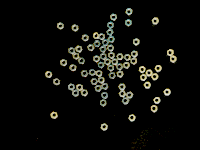nut: (167, 49, 175, 57), (152, 17, 160, 25), (146, 69, 154, 77), (139, 66, 147, 74), (133, 38, 141, 46), (131, 50, 139, 58), (116, 63, 124, 71), (111, 58, 119, 66), (110, 13, 118, 21), (107, 21, 115, 29), (101, 92, 109, 100), (81, 89, 89, 97), (76, 84, 84, 92), (72, 89, 80, 97), (68, 83, 76, 91), (50, 112, 58, 120), (60, 59, 68, 67), (53, 78, 61, 86), (126, 7, 133, 16), (170, 55, 177, 63), (164, 89, 172, 96), (155, 65, 163, 72), (151, 105, 158, 113), (151, 74, 159, 81), (144, 82, 152, 89), (140, 74, 148, 81), (126, 92, 134, 99), (122, 98, 130, 105), (119, 91, 127, 98), (119, 83, 126, 91), (124, 54, 132, 61), (123, 62, 131, 69), (117, 53, 124, 61), (108, 36, 116, 43), (107, 45, 115, 52), (100, 45, 107, 53), (102, 39, 110, 46), (99, 33, 106, 41), (93, 32, 100, 40), (94, 40, 101, 48), (100, 99, 107, 107), (101, 83, 109, 90), (91, 78, 98, 86), (98, 61, 105, 69), (87, 44, 95, 51), (82, 34, 89, 42), (72, 24, 79, 32), (57, 22, 64, 30), (81, 70, 89, 77), (78, 57, 86, 64), (76, 45, 83, 53), (73, 52, 80, 60), (69, 47, 76, 55), (70, 64, 77, 72), (45, 71, 53, 78), (154, 97, 161, 104), (129, 115, 136, 122), (131, 58, 138, 65), (117, 71, 124, 78), (107, 29, 114, 36), (109, 52, 116, 59), (108, 65, 115, 72), (109, 72, 116, 79), (100, 53, 107, 60), (101, 124, 108, 131), (98, 77, 105, 84), (95, 85, 102, 92), (96, 70, 103, 77), (89, 69, 96, 76), (126, 19, 132, 27), (105, 58, 111, 66), (94, 55, 100, 63)
